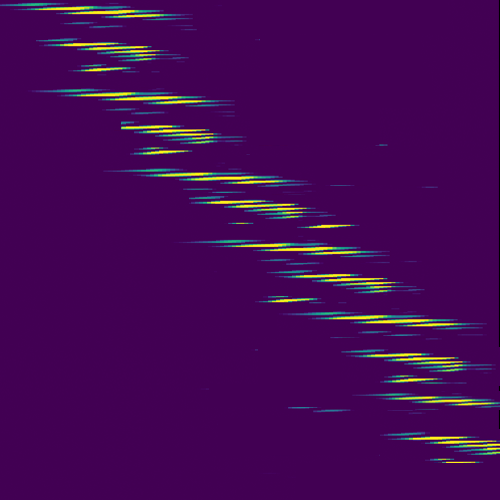semblance: (263, 297, 469, 332), (191, 197, 354, 231), (348, 348, 475, 384), (135, 164, 296, 191), (53, 37, 166, 75), (118, 117, 220, 157), (57, 85, 217, 110), (390, 433, 500, 466), (8, 1, 179, 22), (275, 270, 406, 294), (217, 241, 370, 257), (384, 394, 498, 410)
